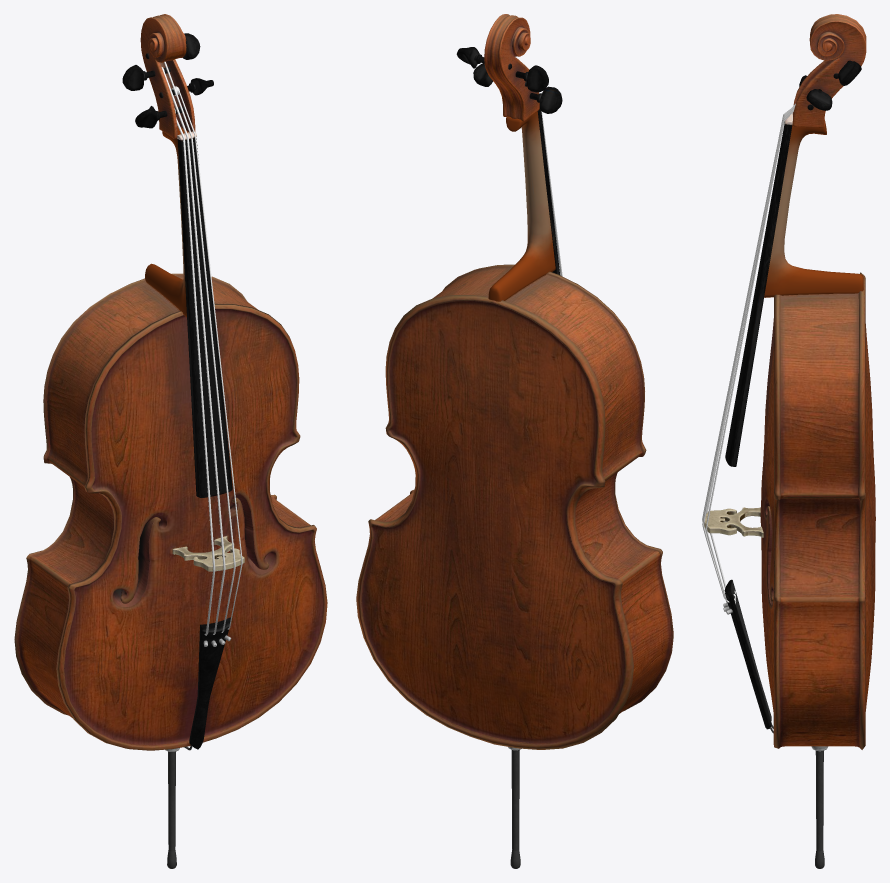
The model's file is mobile.4e9cc97b05b7.glb.
3 renders of one model, left to right at view 1: azimuth 30°, elevation 25°; view 2: azimuth 150°, elevation 25°; view 3: azimuth 270°, elevation 25°, orthographic.
Parts seen in each view (by area): view 1: cello; view 2: cello; view 3: cello.
Boxes of the visible parts, box(x1,y1,x2,y2) form: cello: box(14, 14, 327, 868); cello: box(356, 14, 673, 868); cello: box(702, 14, 875, 868).
Size of the model in its own units: 0.4763 by 1.4 by 0.2598.
2 materials, 2 textured.
